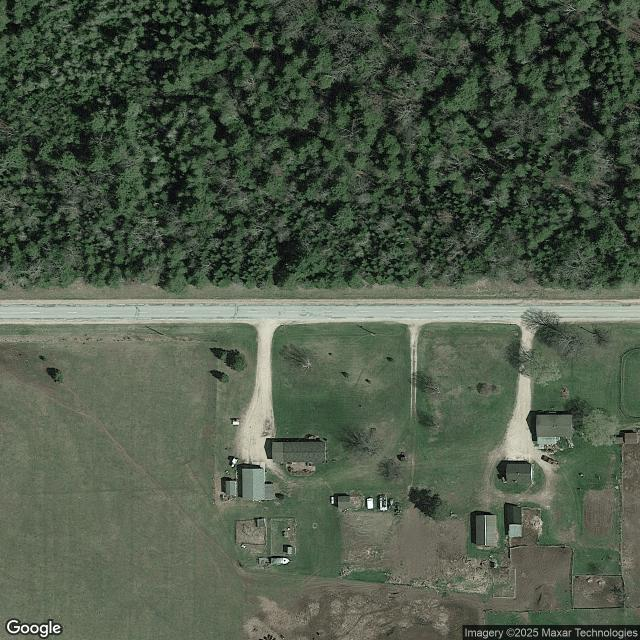Propane: (331, 497, 334, 505)
